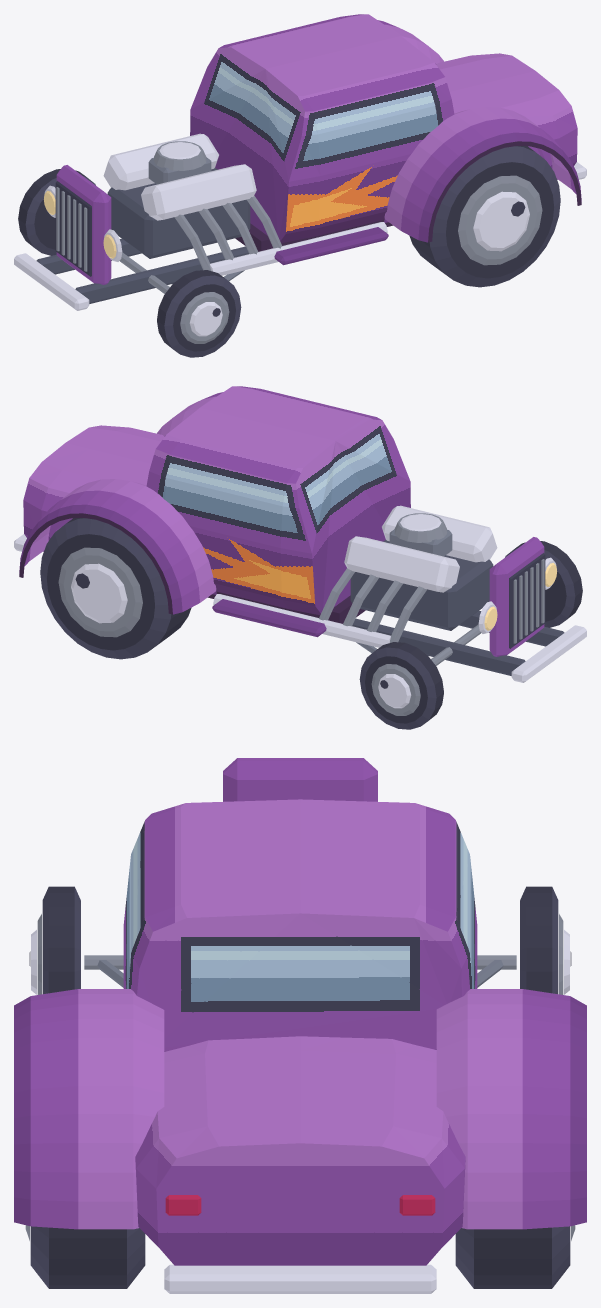
3 views of the same model, one above another, from view 1: azimuth 30°, elevation 25°; view 2: azimuth 150°, elevation 25°; view 3: azimuth 270°, elevation 25° (orthographic). The views are drawn at different scales.
Visible parts, largest first — view 1: Body_static, Wheel_RL_tire_hub, Wheel_FL_tire_hub, Wheel_FR_tire_hub; view 2: Body_static, Wheel_RR_tire_hub, Wheel_FR_tire_hub, Wheel_FL_tire_hub; view 3: Body_static, Wheel_RL_tire_hub, Wheel_RR_tire_hub, Wheel_FL_tire_hub, Wheel_FR_tire_hub.
Part boxes in pixels (x1,y1,x2,y2): Body_static: (14, 14, 586, 310); Wheel_RL_tire_hub: (409, 146, 560, 287); Wheel_FL_tire_hub: (157, 270, 241, 357); Wheel_FR_tire_hub: (18, 169, 95, 255); Body_static: (14, 386, 586, 682); Wheel_RR_tire_hub: (40, 518, 191, 659); Wheel_FR_tire_hub: (359, 642, 443, 729); Wheel_FL_tire_hub: (505, 541, 582, 627); Body_static: (14, 758, 586, 1293); Wheel_RL_tire_hub: (25, 1225, 145, 1288); Wheel_RR_tire_hub: (455, 1225, 575, 1288); Wheel_FL_tire_hub: (29, 886, 80, 994); Wheel_FR_tire_hub: (520, 886, 571, 994).
Bounding box in the file's own units: 73.04 × 27.83 × 41.74.
Materials: 1 (1 with a texture image).
